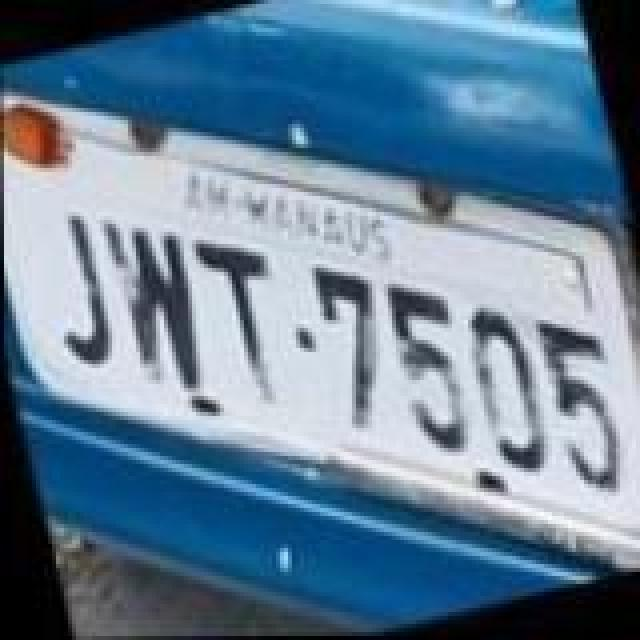5: (526, 306, 638, 506), (372, 274, 484, 466)
7: (304, 254, 408, 442)
J: (32, 210, 120, 374)
O: (456, 298, 556, 482)
T: (188, 224, 300, 416)
W: (94, 198, 218, 402)
